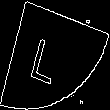L_N: (36, 26, 74, 84)
